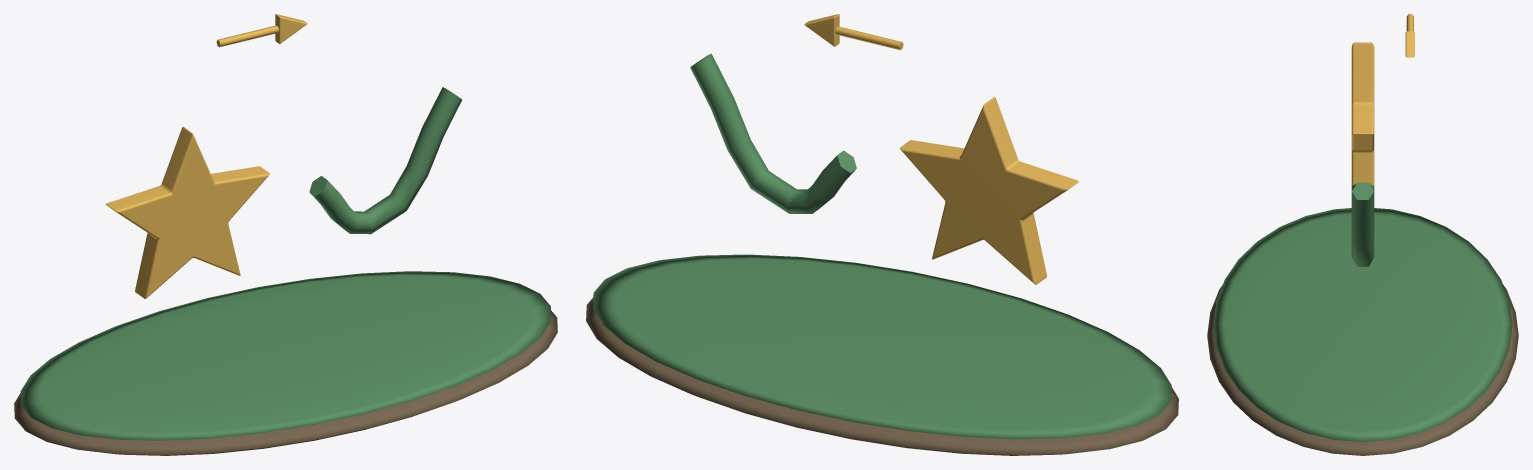
Rendered from complete-third-wanted-condition.glb.
3 views of the same model, side by side, from view 1: azimuth 30°, elevation 25°; view 2: azimuth 150°, elevation 25°; view 3: azimuth 270°, elevation 25° (orthographic). The views are drawn at different scales.
Visible parts, largest first — view 1: complete-third-wanted-condition_surface_01, complete-third-wanted-condition_surface_02, complete-third-wanted-condition_surface_00; view 2: complete-third-wanted-condition_surface_01, complete-third-wanted-condition_surface_02, complete-third-wanted-condition_surface_00; view 3: complete-third-wanted-condition_surface_01, complete-third-wanted-condition_surface_00, complete-third-wanted-condition_surface_02.
Boxes of the visible parts, box(x1,y1,x2,y2) form: complete-third-wanted-condition_surface_01: box(20, 87, 551, 440); complete-third-wanted-condition_surface_02: box(106, 14, 307, 298); complete-third-wanted-condition_surface_00: box(14, 310, 557, 455); complete-third-wanted-condition_surface_01: box(593, 53, 1171, 439); complete-third-wanted-condition_surface_02: box(804, 14, 1078, 284); complete-third-wanted-condition_surface_00: box(586, 297, 1178, 455); complete-third-wanted-condition_surface_01: box(1213, 182, 1512, 441); complete-third-wanted-condition_surface_00: box(1207, 285, 1518, 455); complete-third-wanted-condition_surface_02: box(1351, 14, 1414, 185).
Size of the model in its own units: 4.56 by 2.89 by 2.5.
